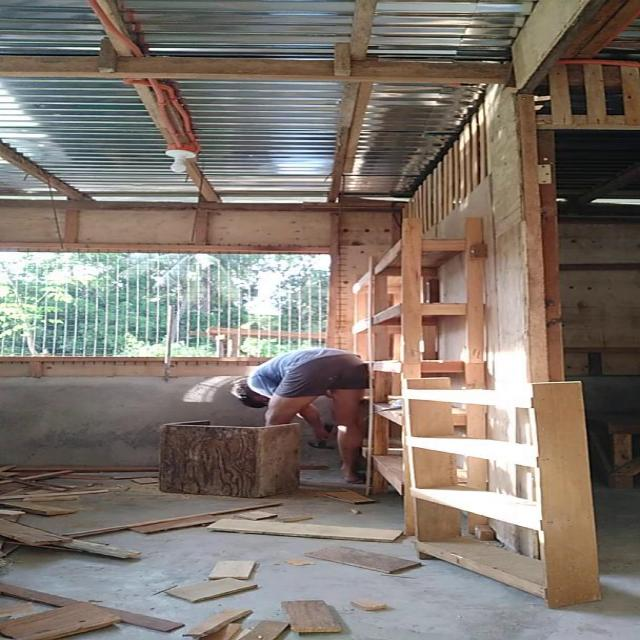hammer: (307, 424, 337, 451)
